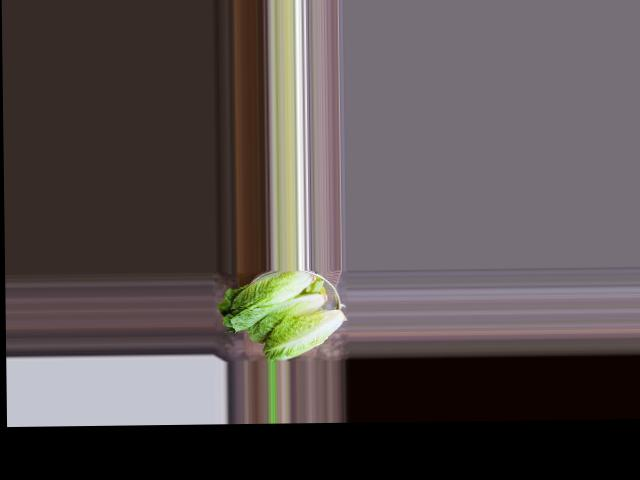lettuce: (221, 269, 323, 333)
